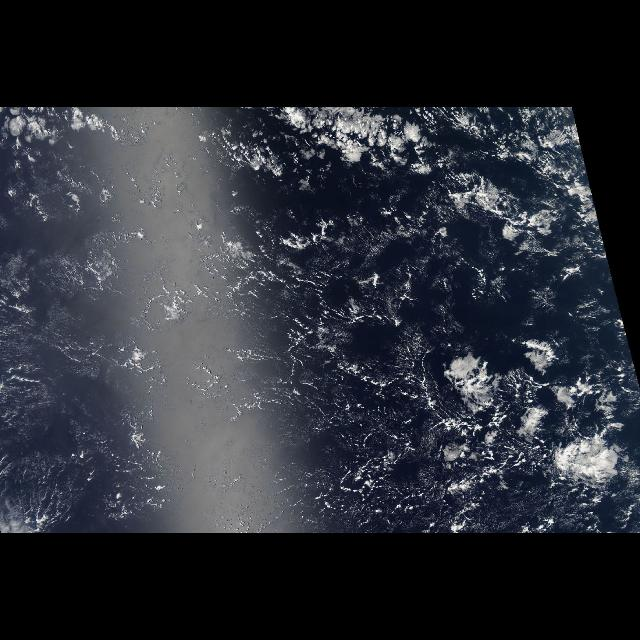Fish: (228, 107, 622, 303)
Gravel: (137, 214, 431, 530)
Sugar: (8, 234, 134, 528)
